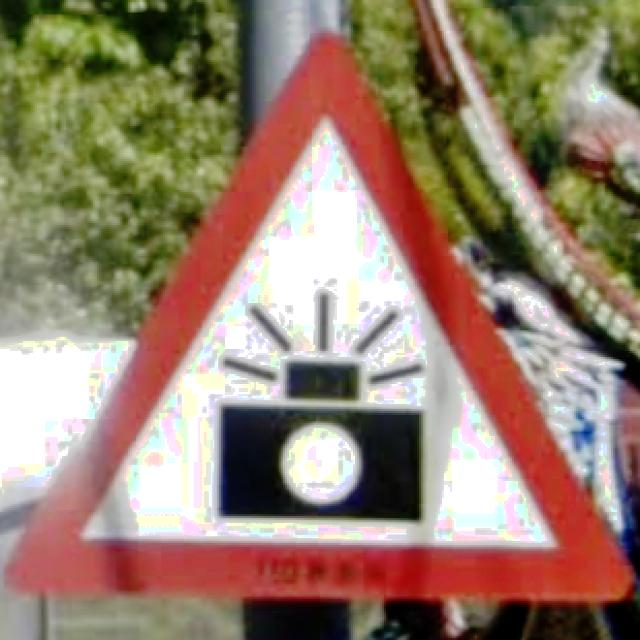speedcamera: (7, 36, 631, 602)
